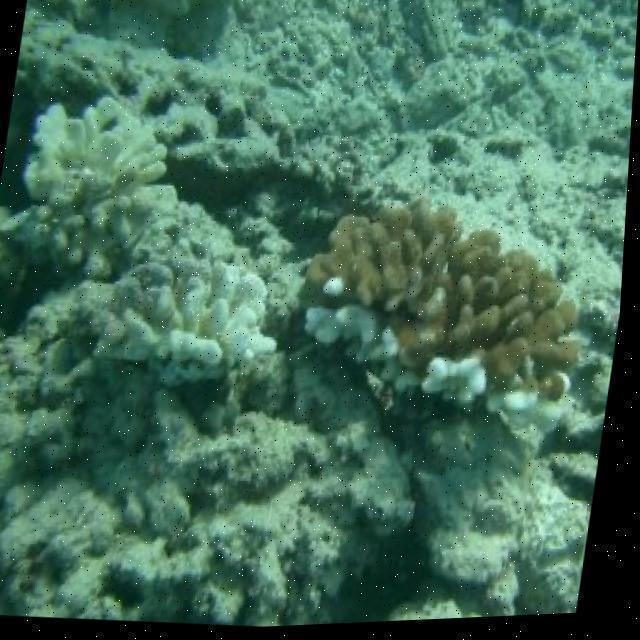Bleached Coral: (27, 76, 203, 267), (86, 263, 284, 388), (418, 355, 584, 473), (299, 293, 392, 375)
